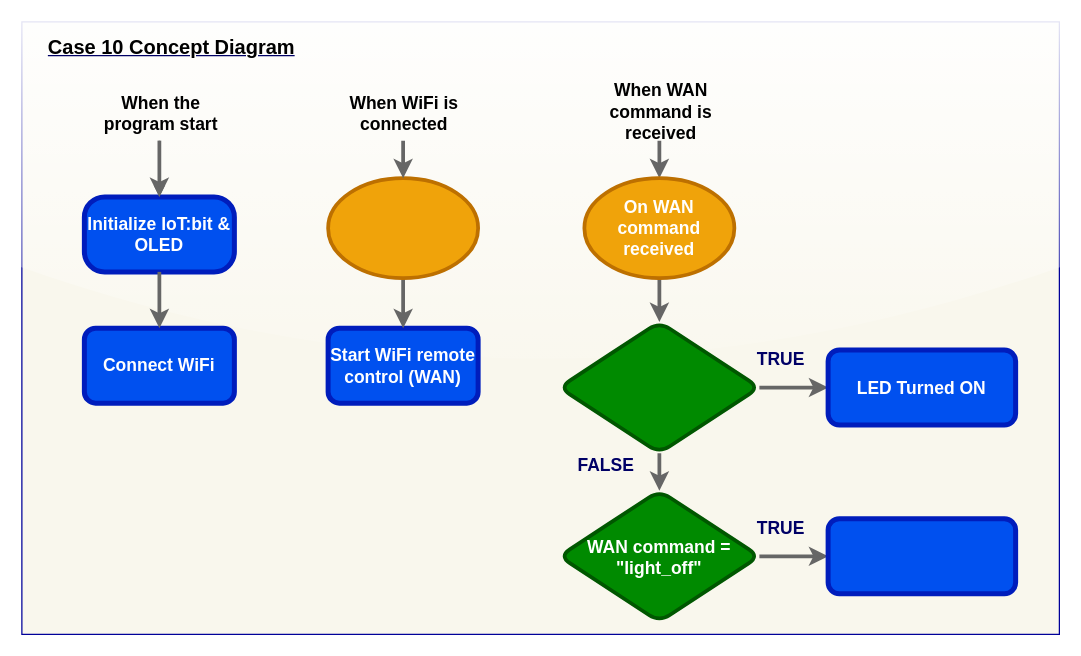
Some shapes in this 1081 by 656 pixel diagram are drawn without their labels. The shapes that lost their labels are listed below. From the top down, each one's centre as x and y in pixels, then its label:
(402,227): On WiFi connected
(659,386): WAN command = "light_on"
(921,556): LED Turned OFF
